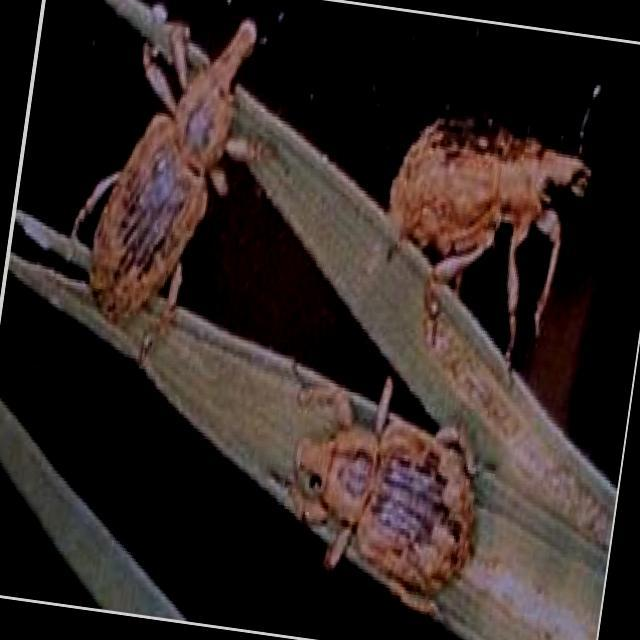ricebug: (73, 20, 256, 330), (387, 118, 589, 359), (289, 380, 476, 616)
